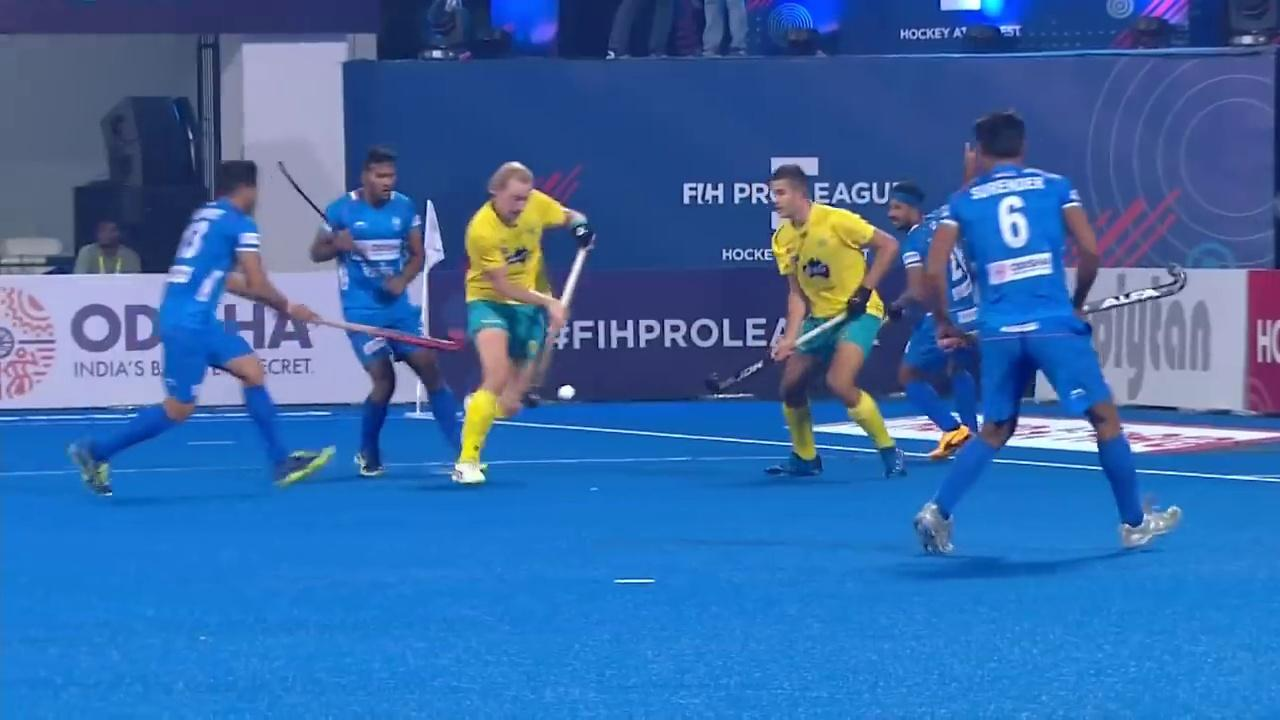ball: (551, 379, 581, 404)
